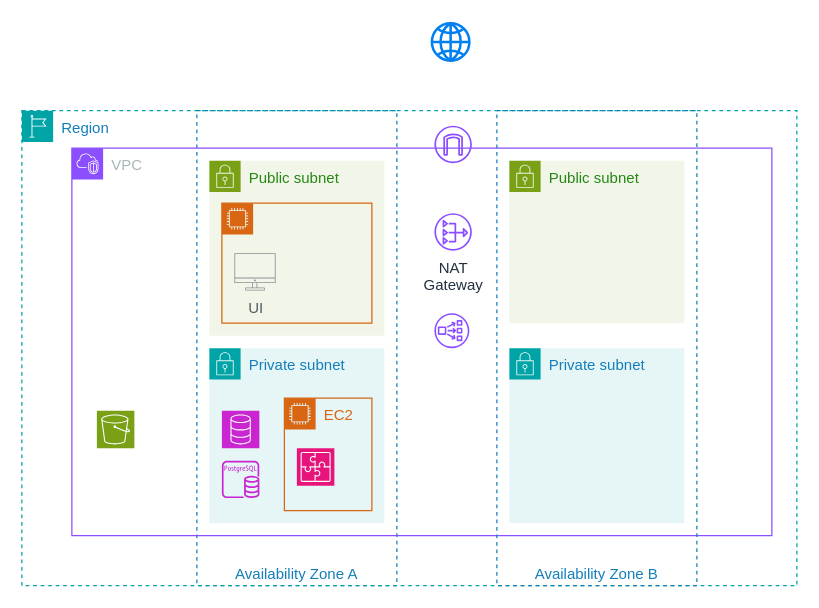
This 819x608 diagram has some shape labels left out. The box of each missing label's shape, as (x1, y1, x2, y2) in pixels:
API: (296, 447, 334, 486)
EC2 instance contents: (221, 202, 372, 323)
Internet: (430, 21, 470, 61)
Internet Gateway: (434, 125, 471, 162)
Load Balancer: (434, 312, 469, 348)
